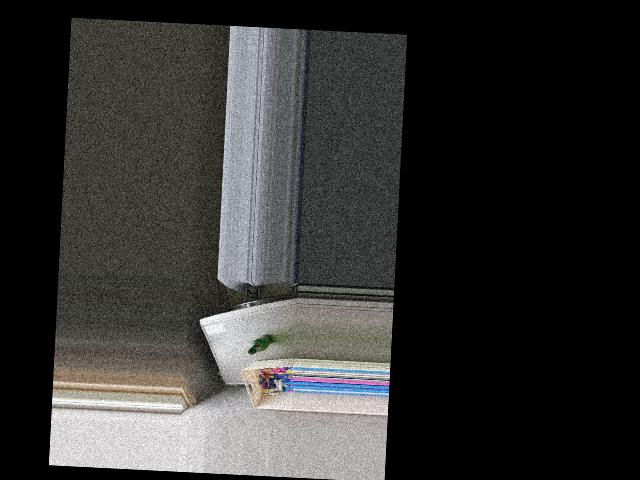beer: (247, 333, 273, 355)
